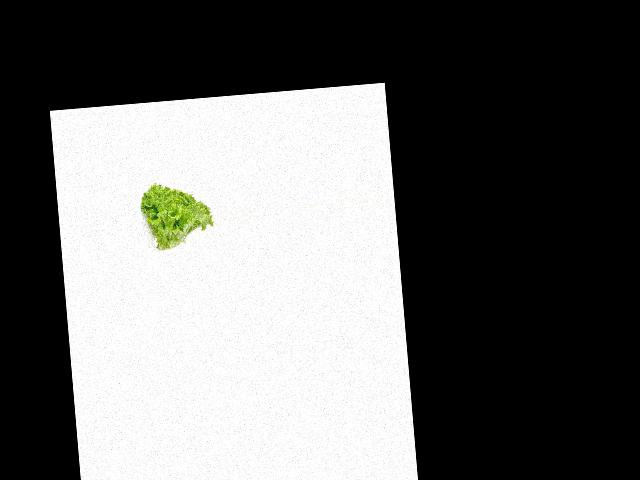lettuce: (138, 174, 218, 256)
